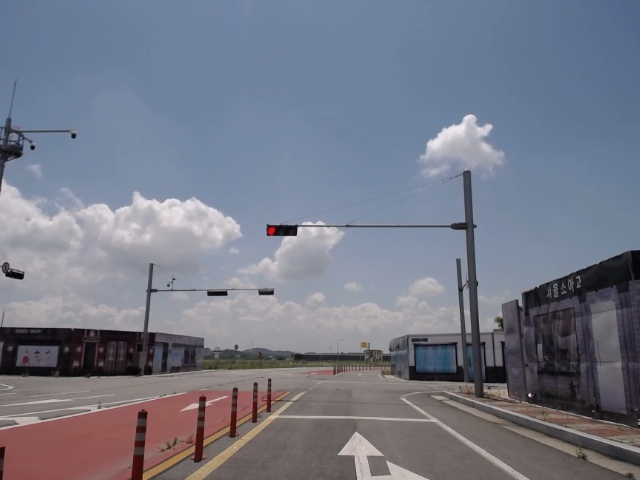red_3: (265, 223, 299, 238)
